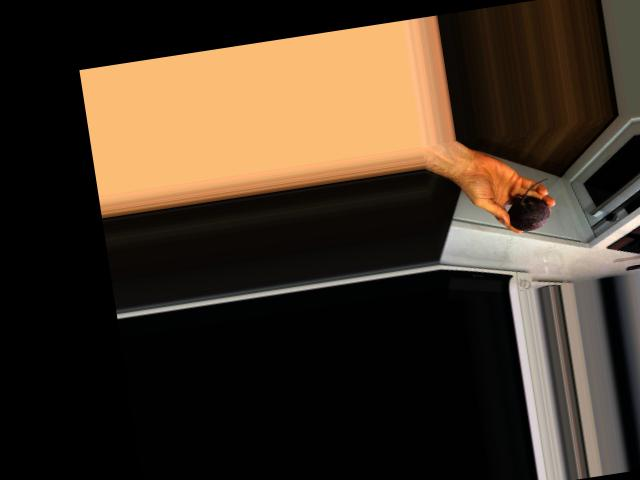beet: (504, 177, 556, 233)
